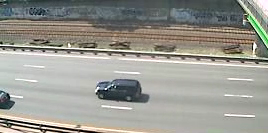car: (94, 77, 145, 103)
